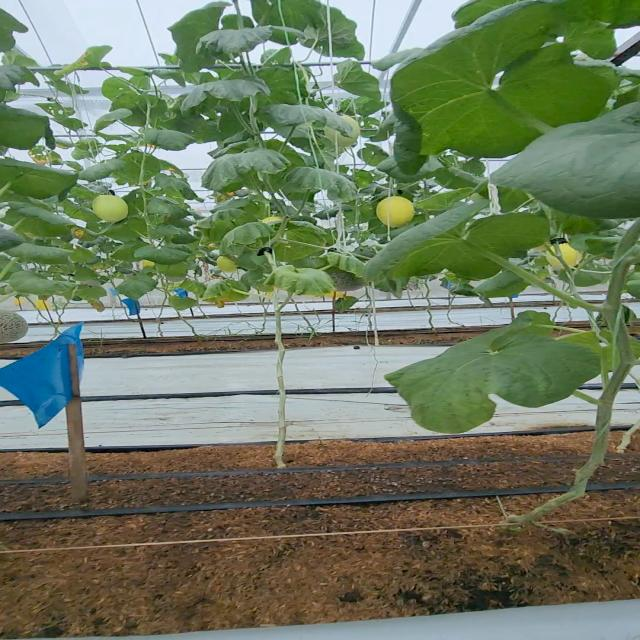Rear-melon: (383, 196, 413, 224), (92, 198, 128, 221)
